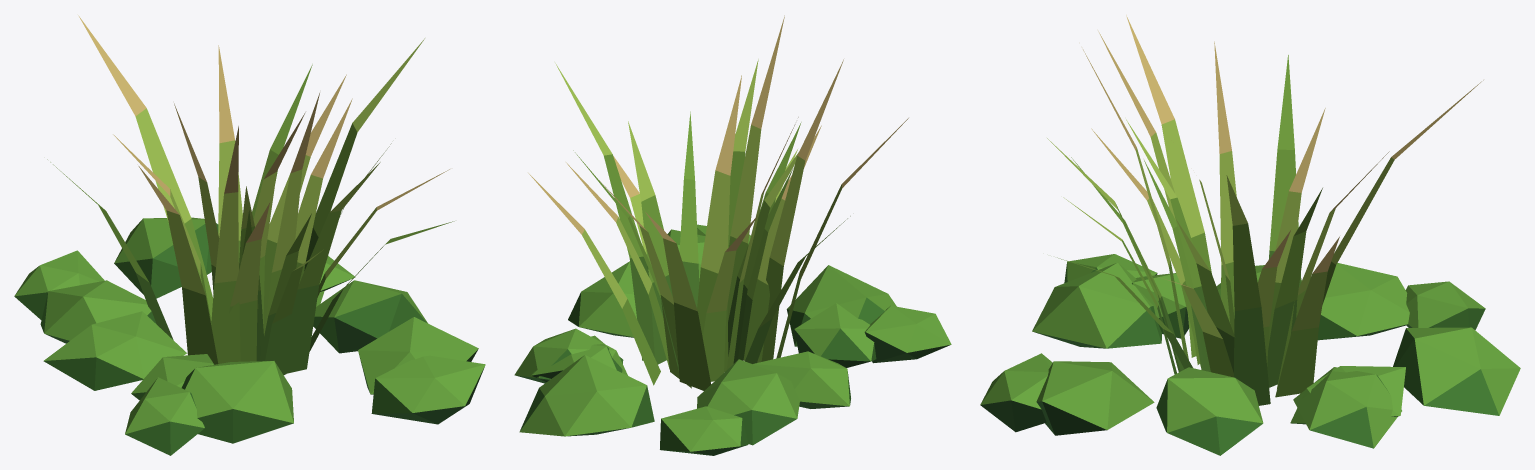
The model's file is G13_GrassWithCreeper.glb.
3 views of the same model, side by side, from view 1: azimuth 30°, elevation 25°; view 2: azimuth 150°, elevation 25°; view 3: azimuth 270°, elevation 25° (orthographic). The views are drawn at different scales.
Parts seen in each view (by area): view 1: G13_GrassWithCreeper; view 2: G13_GrassWithCreeper; view 3: G13_GrassWithCreeper.
Part boxes in pixels (x1=…): G13_GrassWithCreeper: x1=14, y1=15, x2=485, y2=455; G13_GrassWithCreeper: x1=514, y1=15, x2=951, y2=455; G13_GrassWithCreeper: x1=980, y1=15, x2=1520, y2=455.
Bounding box in the file's own units: 1.3 × 1.12 × 1.61.
